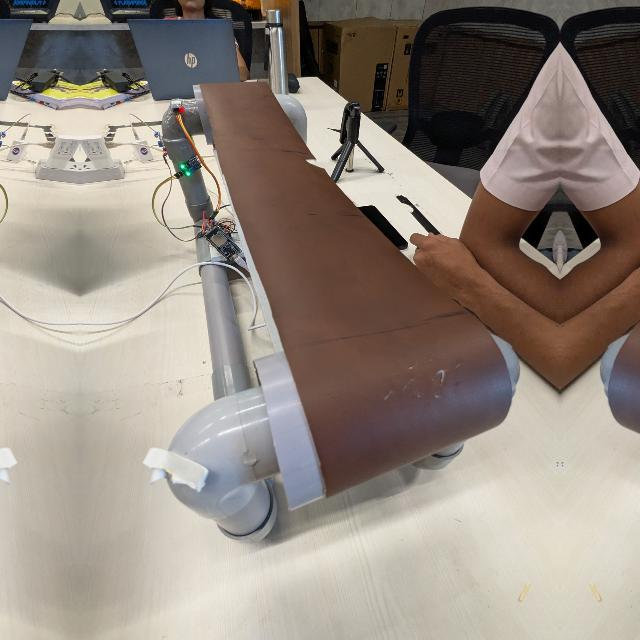belt_crack: (363, 350, 482, 409), (638, 350, 640, 409)
belt_tear: (302, 150, 325, 170)
